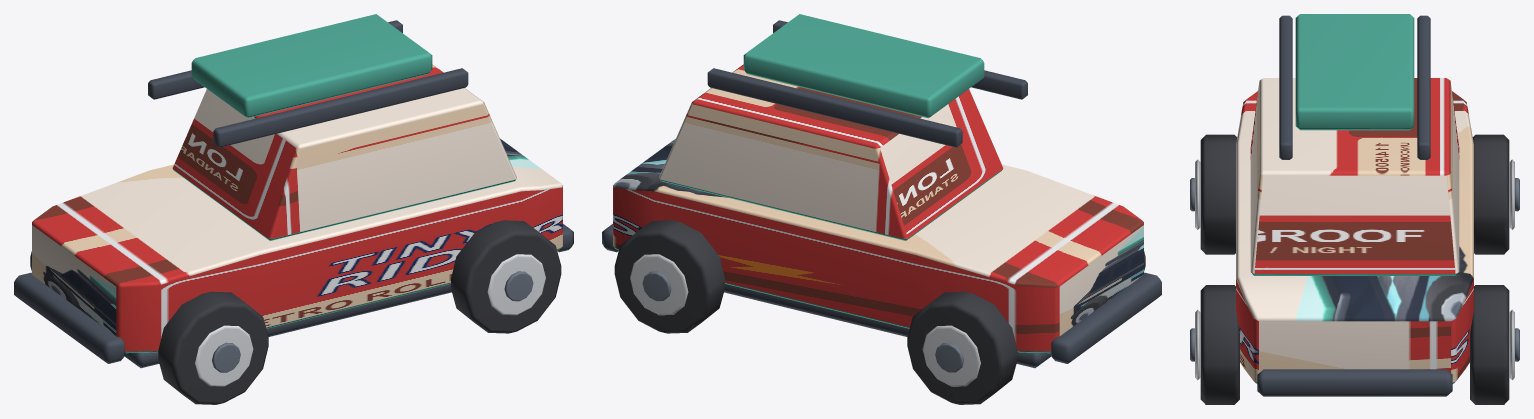
3 renders of one model, left to right at view 1: azimuth 30°, elevation 25°; view 2: azimuth 150°, elevation 25°; view 3: azimuth 270°, elevation 25°, orthographic. The views are drawn at different scales.
Parts seen in each view (by area): view 1: RR-02_connected_shell, RR-02_cabin, utility load, Tire.002, Tire, utility rail, front bumper, underbody, Rim.002, Rim, utility rail.001, Hub.002 (+1 smaller); view 2: RR-02_connected_shell, RR-02_cabin, utility load, Tire.003, Tire.001, utility rail.001, front bumper, underbody, Rim.003, Rim.001, utility rail, Hub.003 (+1 smaller); view 3: RR-02_cabin, RR-02_connected_shell, utility load, rear bumper, Tire.002, Tire.003, Tire, Tire.001, utility rail, utility rail.001, Rim, Rim.001 (+2 smaller).
Part boxes in pixels (x1,y1,x2,y2): RR-02_connected_shell: (32, 138, 562, 353); RR-02_cabin: (172, 64, 516, 240); utility load: (191, 14, 432, 118); Tire.002: (451, 220, 561, 333); Tire: (158, 291, 268, 404); utility rail: (213, 68, 468, 147); front bumper: (14, 272, 125, 363); underbody: (124, 284, 451, 368); Rim.002: (487, 254, 545, 315); Rim: (195, 325, 253, 386); utility rail.001: (148, 20, 402, 99); Hub.002: (504, 271, 533, 301); RR-02_connected_shell: (613, 138, 1143, 353); RR-02_cabin: (659, 64, 1003, 240); utility load: (743, 14, 984, 118); Tire.003: (614, 220, 724, 333); Tire.001: (907, 291, 1017, 404); utility rail.001: (707, 68, 962, 147); front bumper: (1050, 272, 1161, 363); underbody: (724, 284, 1051, 368); Rim.003: (630, 254, 688, 315); Rim.001: (922, 325, 980, 386); utility rail: (773, 20, 1027, 99); Hub.003: (642, 271, 671, 301); RR-02_cabin: (1250, 78, 1459, 275); RR-02_connected_shell: (1236, 91, 1473, 383); utility load: (1295, 14, 1414, 130); rear bumper: (1257, 369, 1452, 396); Tire.002: (1200, 285, 1239, 404); Tire.003: (1470, 285, 1509, 404); Tire: (1200, 134, 1237, 254); Tire.001: (1472, 134, 1509, 254); utility rail: (1279, 15, 1292, 159); utility rail.001: (1417, 15, 1430, 159); Rim: (1195, 159, 1200, 229); Rim.001: (1509, 159, 1514, 229).
Bounding box in the file's own units: 381 × 199 × 219.
